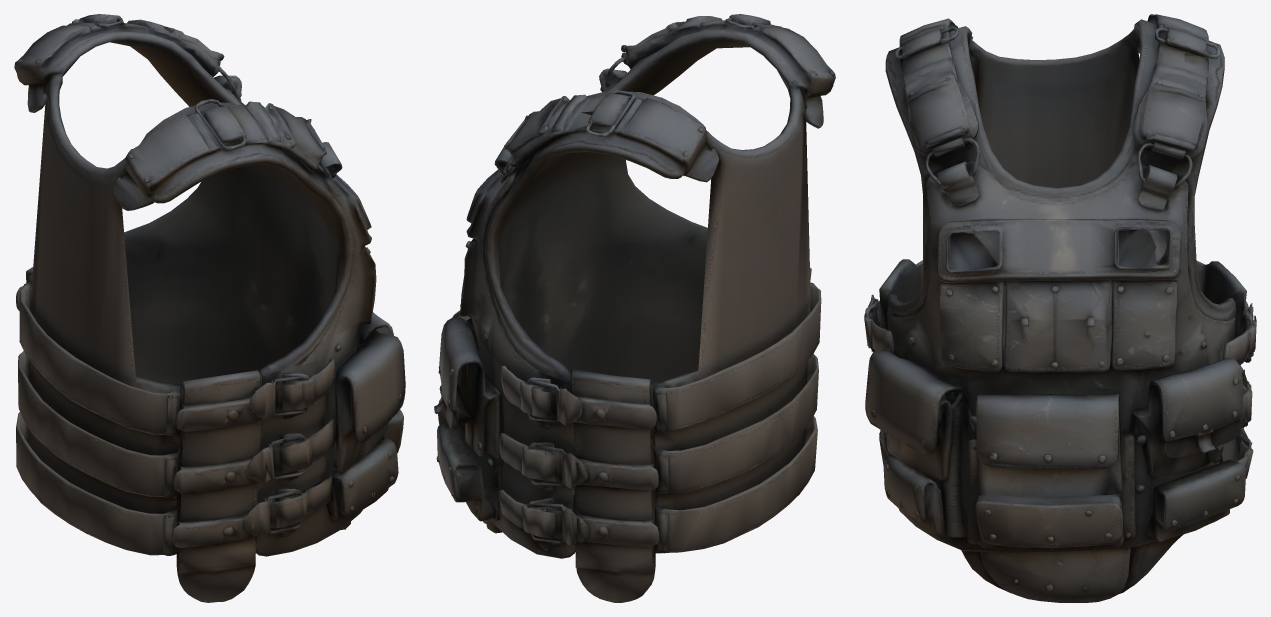
The model's file is mer_heavy_armor_vest.glb.
3 renders of one model, left to right at view 1: azimuth 30°, elevation 25°; view 2: azimuth 150°, elevation 25°; view 3: azimuth 270°, elevation 25°, orthographic.
Visible parts, largest first — view 1: tripo_node_8c215259-2e06-4478-ae20-6da728c0bd17; view 2: tripo_node_8c215259-2e06-4478-ae20-6da728c0bd17; view 3: tripo_node_8c215259-2e06-4478-ae20-6da728c0bd17.
Part boxes in pixels (bbox=[...]): tripo_node_8c215259-2e06-4478-ae20-6da728c0bd17: bbox=[14, 14, 405, 602]; tripo_node_8c215259-2e06-4478-ae20-6da728c0bd17: bbox=[434, 14, 835, 602]; tripo_node_8c215259-2e06-4478-ae20-6da728c0bd17: bbox=[864, 14, 1256, 602].
Size of the model in its own units: 0.666 by 0.998 by 0.7168.
1 material, 1 textured.
